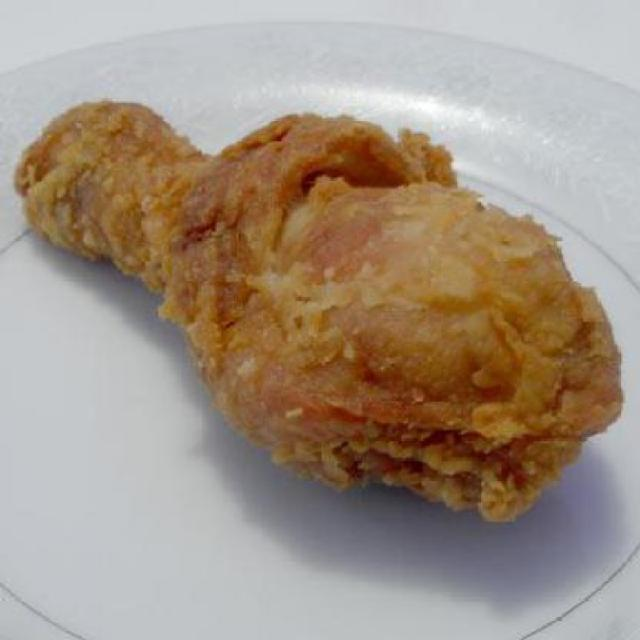Chicken -Fried Chicken-: (12, 100, 624, 527)
